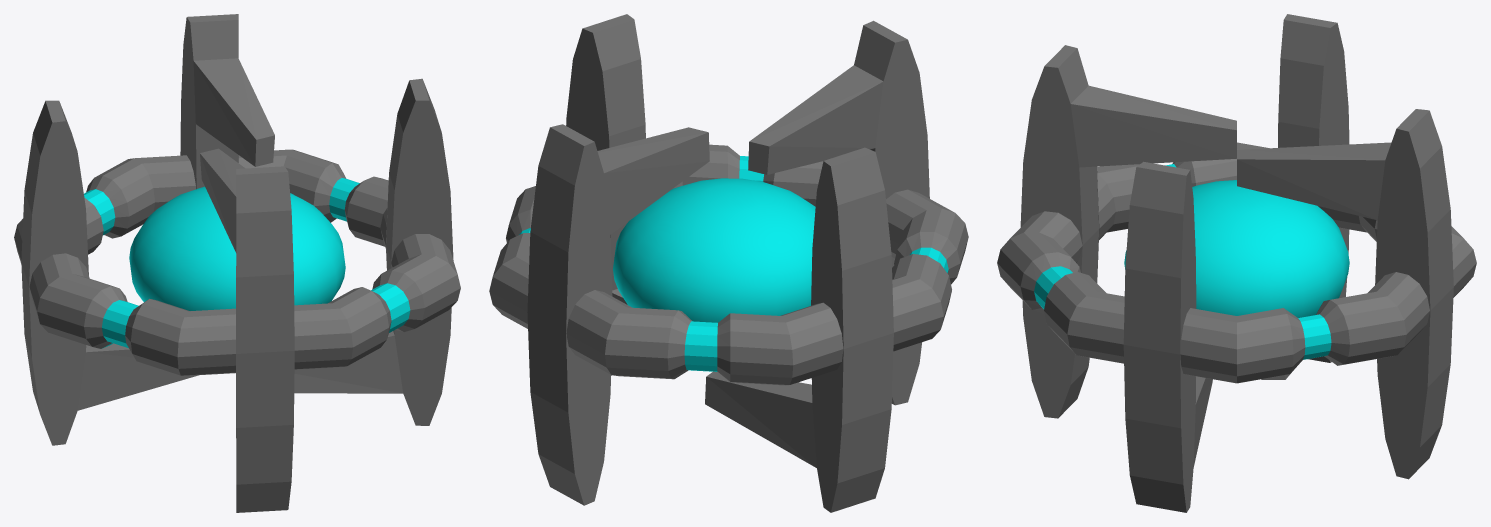
The model's file is Drone.fbx.
3 views of the same model, side by side, from view 1: azimuth 30°, elevation 25°; view 2: azimuth 150°, elevation 25°; view 3: azimuth 270°, elevation 25° (orthographic). The views are drawn at different scales.
Visible parts, largest first — view 1: Arms, pSphere1; view 2: Arms, pSphere1; view 3: Arms, pSphere1.
Boxes of the visible parts, x1,y1,x2,y2 form: Arms: (14, 14, 460, 512); pSphere1: (129, 186, 345, 310); Arms: (489, 14, 968, 512); pSphere1: (613, 178, 815, 322); Arms: (997, 14, 1476, 512); pSphere1: (1124, 180, 1349, 317).
Size of the model in its own units: 19.35 by 15.6 by 19.35.
